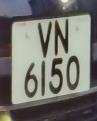0: (65, 52, 83, 95)
1: (39, 57, 50, 101)
5: (48, 55, 66, 99)
6: (22, 60, 42, 102)
N: (53, 16, 72, 58)
V: (35, 18, 54, 61)
